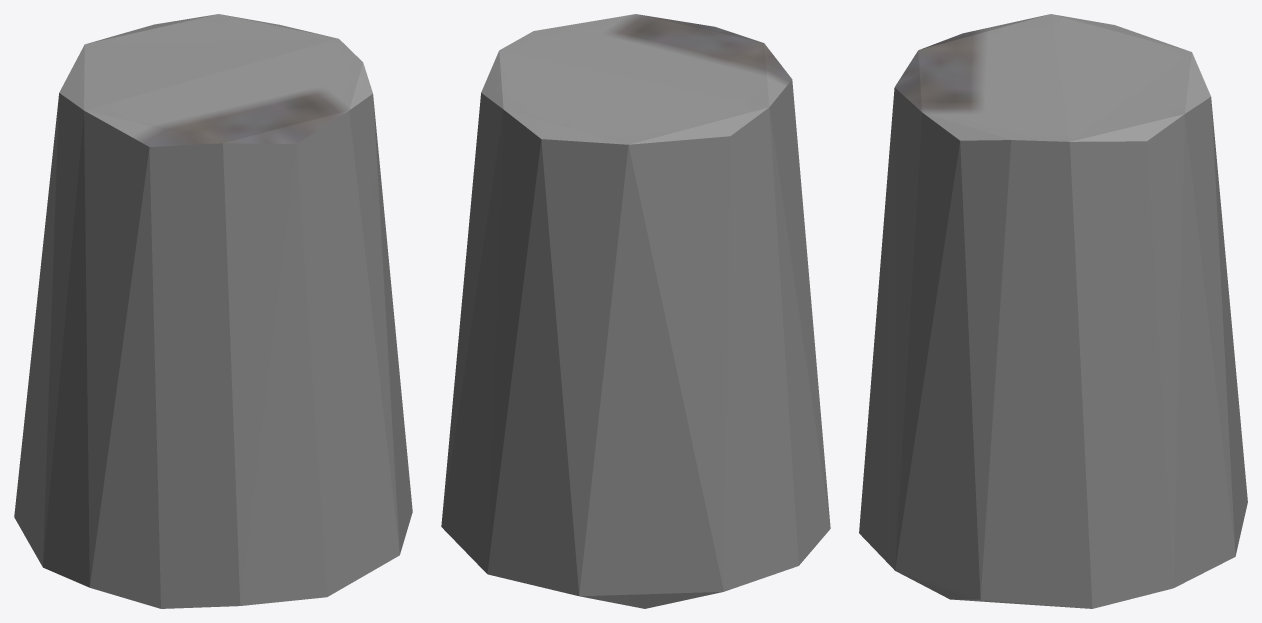
The model's file is metal3_1.dae.
The picture shows the model from 3 angles, left to right: view 1: azimuth 30°, elevation 25°; view 2: azimuth 150°, elevation 25°; view 3: azimuth 270°, elevation 25°; orthographic projection.
Parts seen in each view (by area): view 1: node; view 2: node; view 3: node.
Part boxes in pixels (x1,y1,x2,y2): node: [14, 14, 412, 608]; node: [441, 14, 830, 608]; node: [859, 14, 1247, 608].
Bounding box in the file's own units: 0.1361 × 0.1786 × 0.1373.
Materials: 1 (1 with a texture image).
